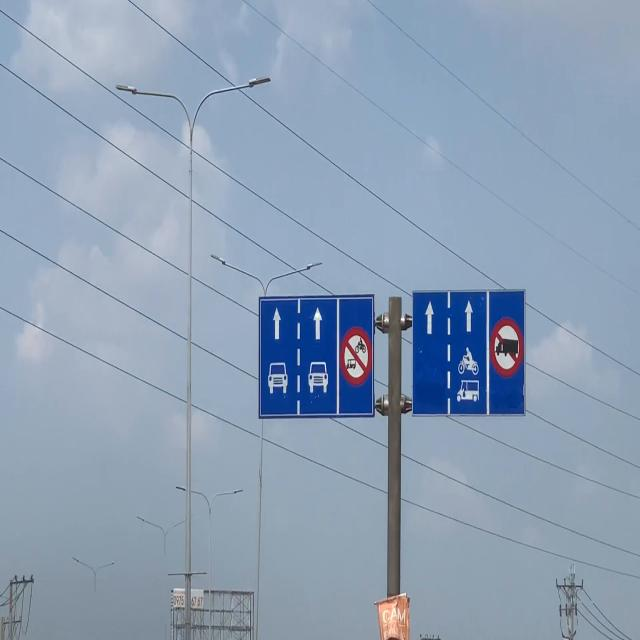Cam con lai: (488, 316, 523, 378), (339, 326, 372, 387)
